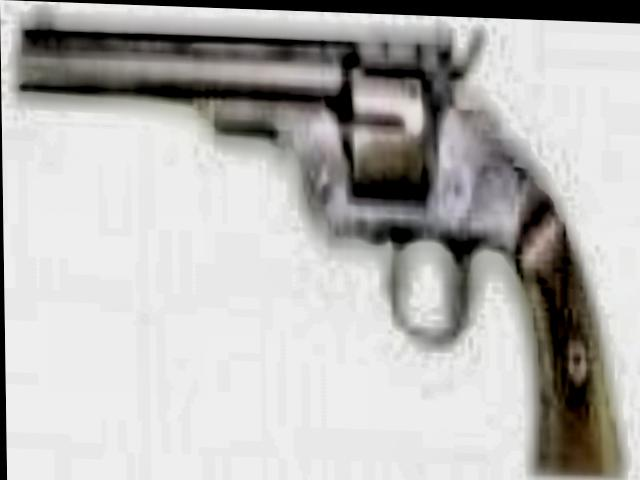pistol: (12, 12, 625, 474)
